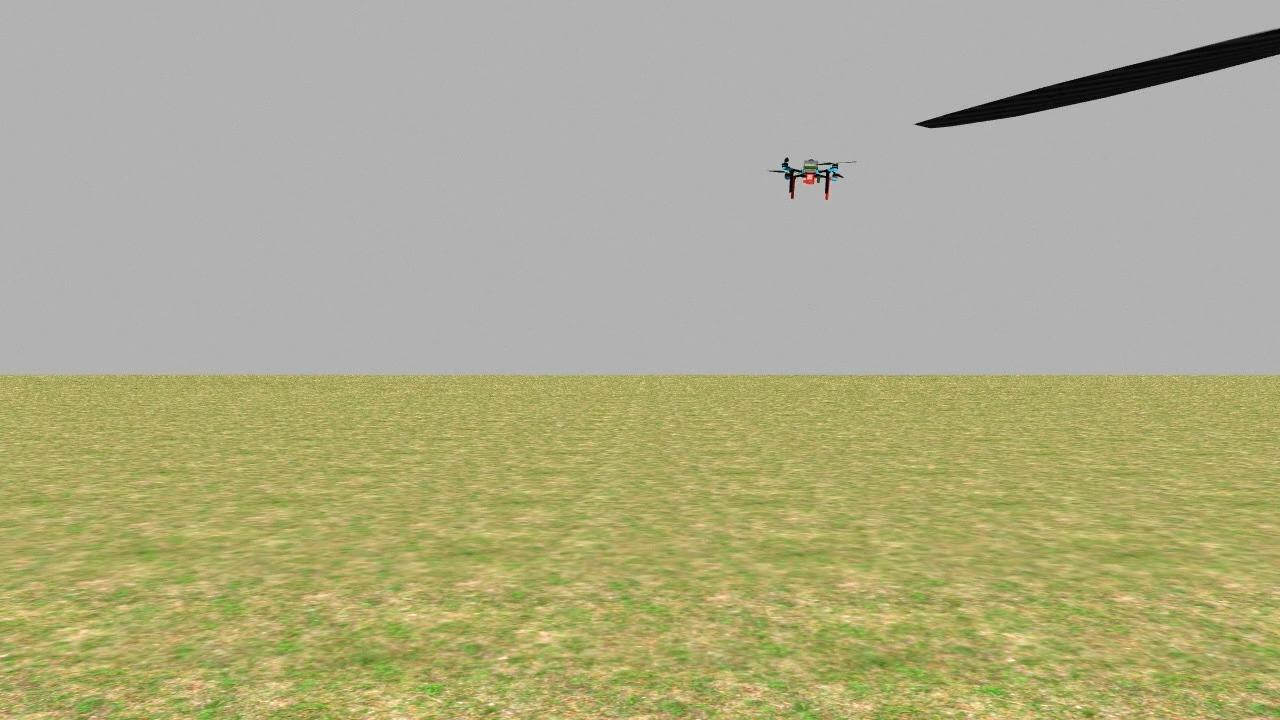UAV: (764, 139, 864, 217)
